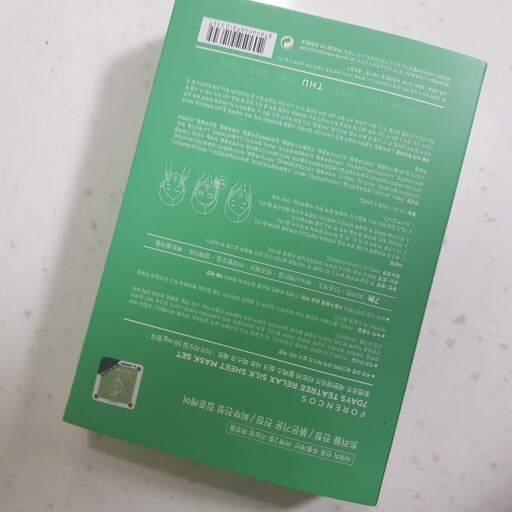Paper_0: (55, 1, 490, 512)
